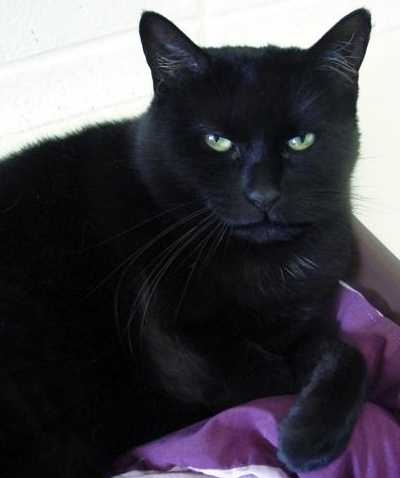Cat: (0, 9, 382, 471)
